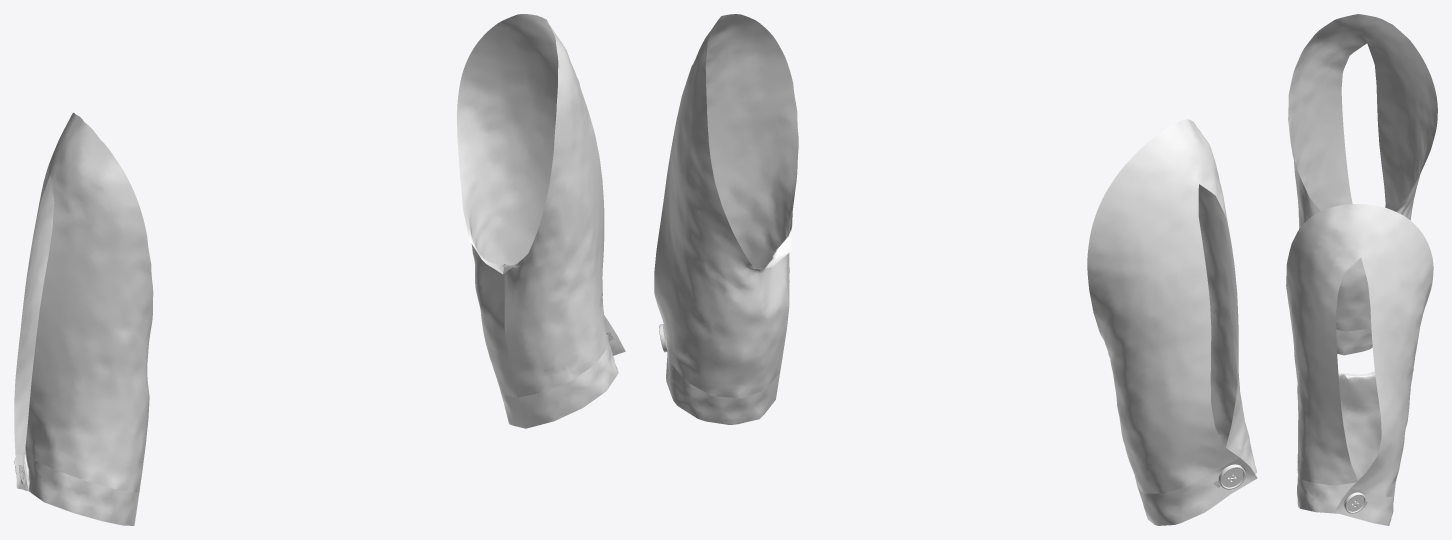
The model's file is slit_sleeves_btn.glb.
The picture shows the model from 3 angles, left to right: view 1: azimuth 30°, elevation 25°; view 2: azimuth 150°, elevation 25°; view 3: azimuth 270°, elevation 25°; orthographic projection. The views are drawn at different scales.
Parts seen in each view (by area): view 1: Cloth; view 2: Cloth; view 3: Cloth, Node #2.
Part boxes in pixels (x1=…): Cloth: x1=14, y1=14, x2=625, y2=525; Cloth: x1=654, y1=14, x2=1257, y2=525; Cloth: x1=1286, y1=14, x2=1437, y2=525; Node #2: x1=1344, y1=492, x2=1365, y2=513.
Size of the model in its own units: 49.01 by 31.27 by 12.98.
Materials: 12 (2 with a texture image).
